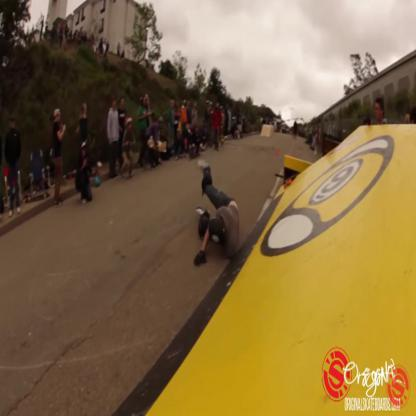Fall_Down: (192, 156, 242, 271)
